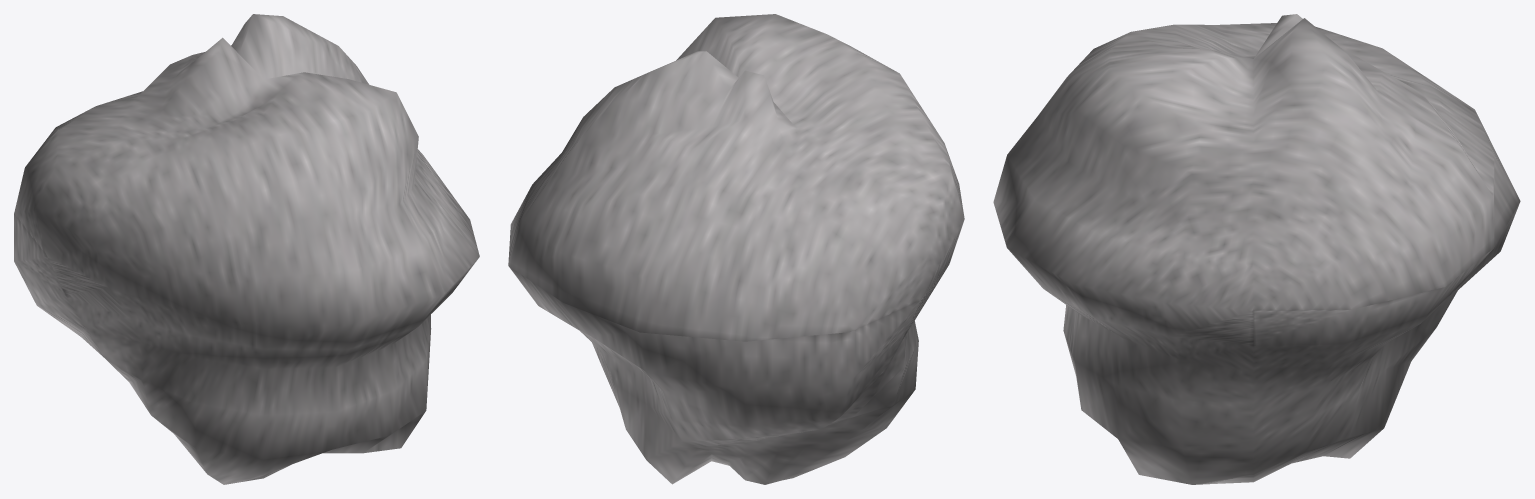
The model's file is asteroid1.fbx.
3 renders of one model, left to right at view 1: azimuth 30°, elevation 25°; view 2: azimuth 150°, elevation 25°; view 3: azimuth 270°, elevation 25°, orthographic. The views are drawn at different scales.
Parts seen in each view (by area): view 1: meteor1; view 2: meteor1; view 3: meteor1.
Part boxes in pixels (box(x1,y1,x2,y2)): meteor1: box(14, 14, 479, 484); meteor1: box(508, 14, 964, 484); meteor1: box(993, 14, 1520, 484).
Size of the model in its own units: 4.68 by 4.98 by 5.23.
1 material, 1 textured.
